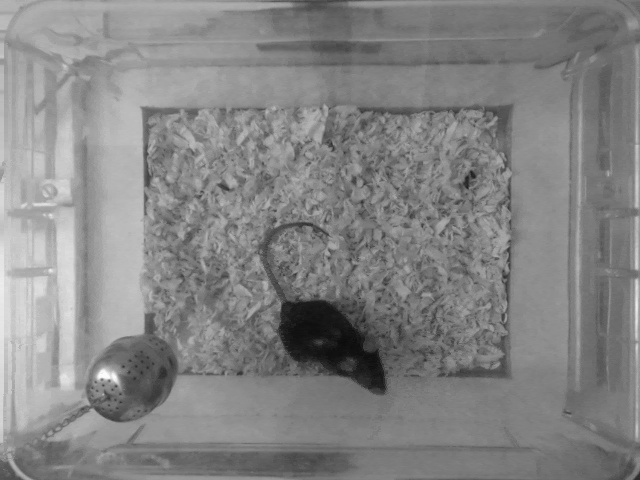mice: (261, 218, 386, 398)
